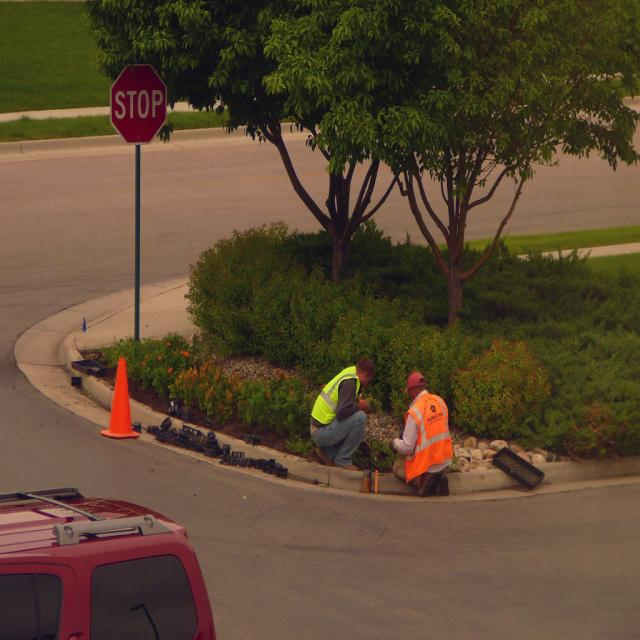Passenger Car: (2, 491, 217, 640)
